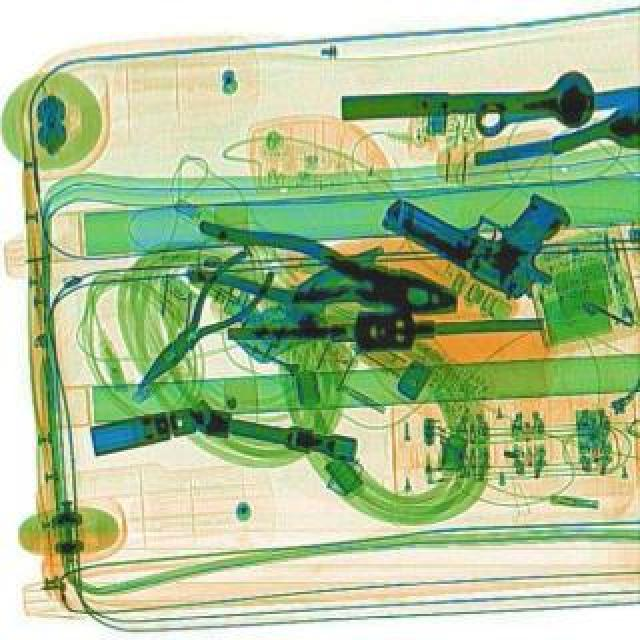gun: (374, 132, 592, 310)
wrench: (182, 214, 466, 332), (118, 244, 282, 404)
